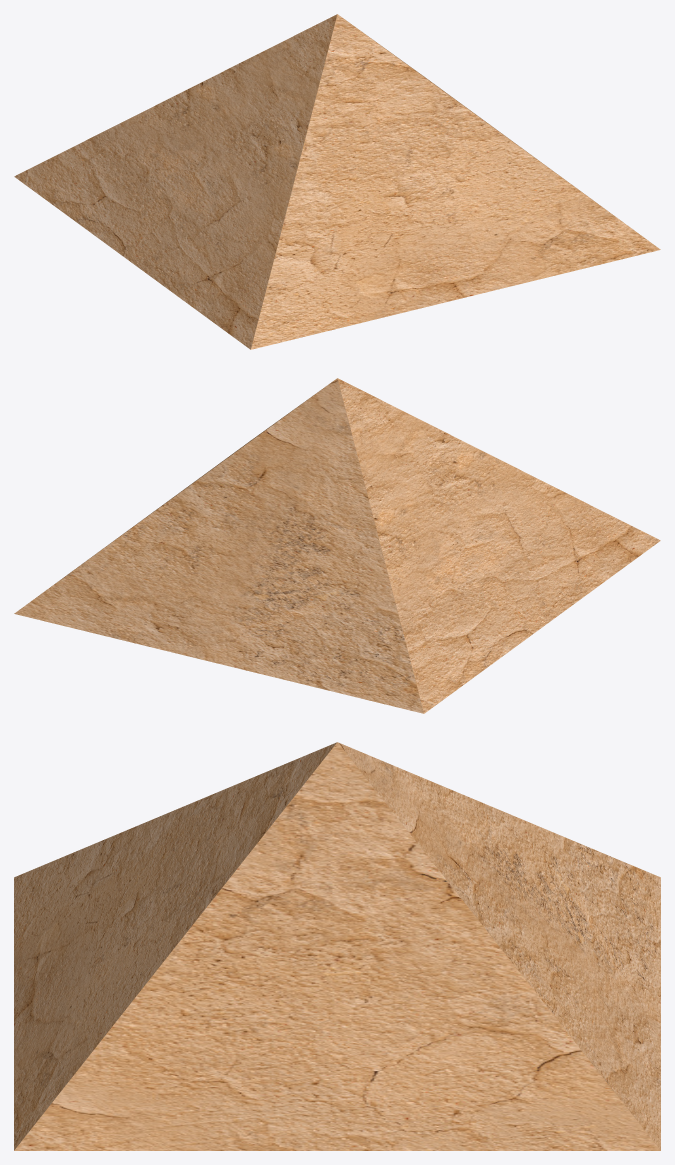
The picture shows the model from 3 angles, top to bottom: view 1: azimuth 30°, elevation 25°; view 2: azimuth 150°, elevation 25°; view 3: azimuth 270°, elevation 25°; orthographic projection. The views are drawn at different scales.
Visible parts, largest first — view 1: Cone; view 2: Cone; view 3: Cone.
Boxes of the visible parts, <box> form: Cone: <box>14,14,660,349</box>; Cone: <box>14,378,660,713</box>; Cone: <box>14,742,660,1150</box>.
Bounding box in the file's own units: 1009 × 468 × 1009.
1 material, 1 textured.
